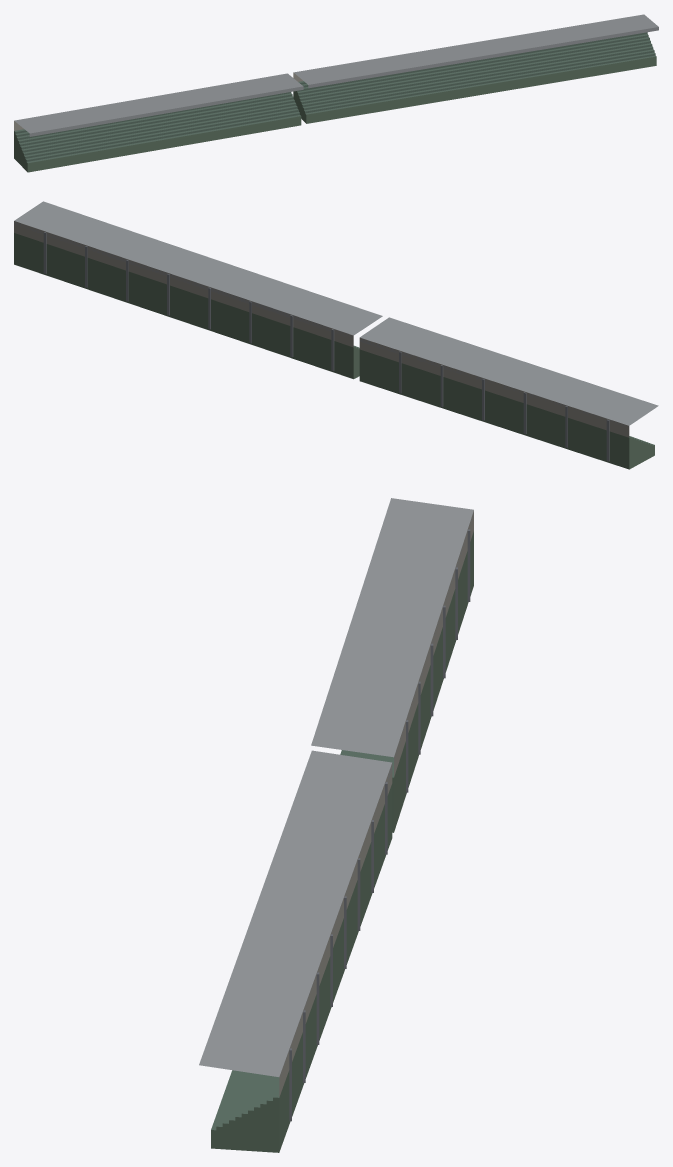
File: straight_stands.glb
3 views of the same model, one above another, from view 1: azimuth 30°, elevation 25°; view 2: azimuth 150°, elevation 25°; view 3: azimuth 270°, elevation 25° (orthographic). The views are drawn at different scales.
Visible parts, largest first — view 1: chunk_0_0; view 2: chunk_0_0; view 3: chunk_0_0.
Boxes of the visible parts, bbox=[...] form: chunk_0_0: bbox=[14, 14, 658, 172]; chunk_0_0: bbox=[14, 201, 658, 469]; chunk_0_0: bbox=[199, 498, 473, 1152].
Bounding box in the file's own units: 178 × 12 × 36.26.
